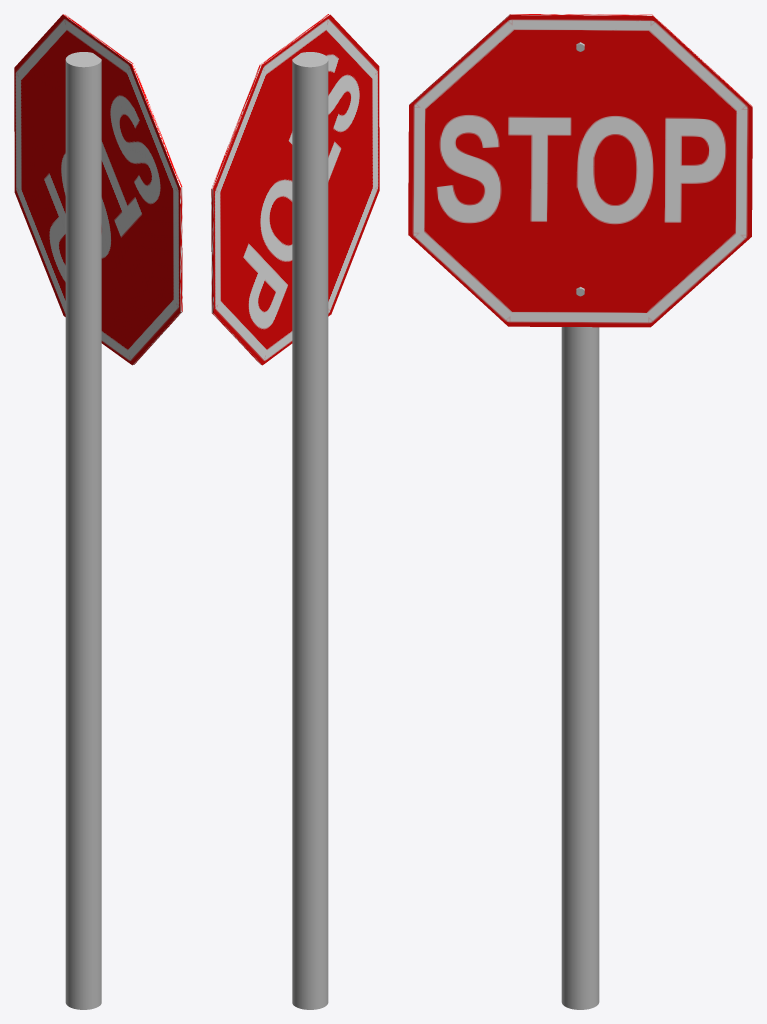
Rendered from Sign4.obj.
3 views of the same model, side by side, from view 1: azimuth 30°, elevation 25°; view 2: azimuth 150°, elevation 25°; view 3: azimuth 270°, elevation 25° (orthographic). The views are drawn at different scales.
Parts seen in each view (by area): view 1: Object.4; view 2: Object.4; view 3: Object.4.
Boxes of the visible parts, x1,y1,x2,y2 form: Object.4: (14,14,182,1009); Object.4: (211,14,379,1009); Object.4: (408,14,752,1009).
Bounding box in the file's own units: 0.2202 × 5.9 × 1.85.
3 materials, 2 textured.
